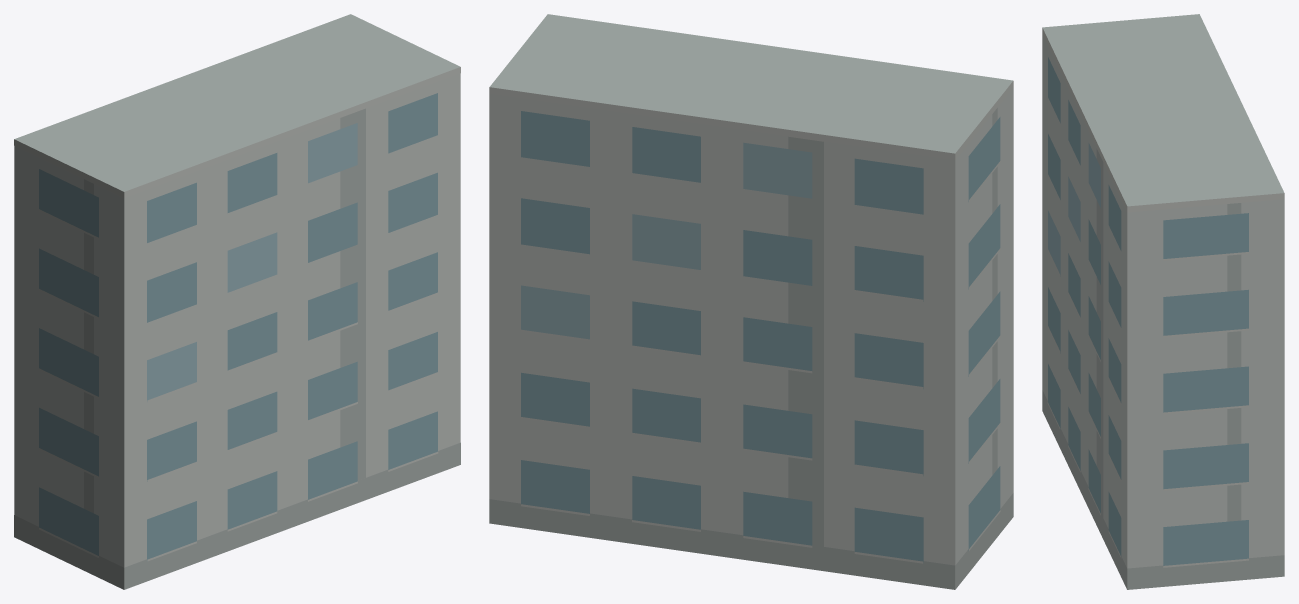
Rendered from residential-c4efa4a9-96a6-49db-8cb7-433b0024a4f0.glb.
3 views of the same model, side by side, from view 1: azimuth 30°, elevation 25°; view 2: azimuth 150°, elevation 25°; view 3: azimuth 270°, elevation 25° (orthographic). The views are drawn at different scales.
Visible parts, largest first — view 1: residential-c4efa4a9-96a6-49db-8cb7-433b0024a4f0.tmp; view 2: residential-c4efa4a9-96a6-49db-8cb7-433b0024a4f0.tmp; view 3: residential-c4efa4a9-96a6-49db-8cb7-433b0024a4f0.tmp.
Boxes of the visible parts, left/top/right/bottom form: residential-c4efa4a9-96a6-49db-8cb7-433b0024a4f0.tmp: left=14, top=14, right=460, bottom=589; residential-c4efa4a9-96a6-49db-8cb7-433b0024a4f0.tmp: left=489, top=14, right=1013, bottom=589; residential-c4efa4a9-96a6-49db-8cb7-433b0024a4f0.tmp: left=1042, top=14, right=1284, bottom=589.
Bounding box in the file's own units: 16.42 × 15.25 × 8.74.
